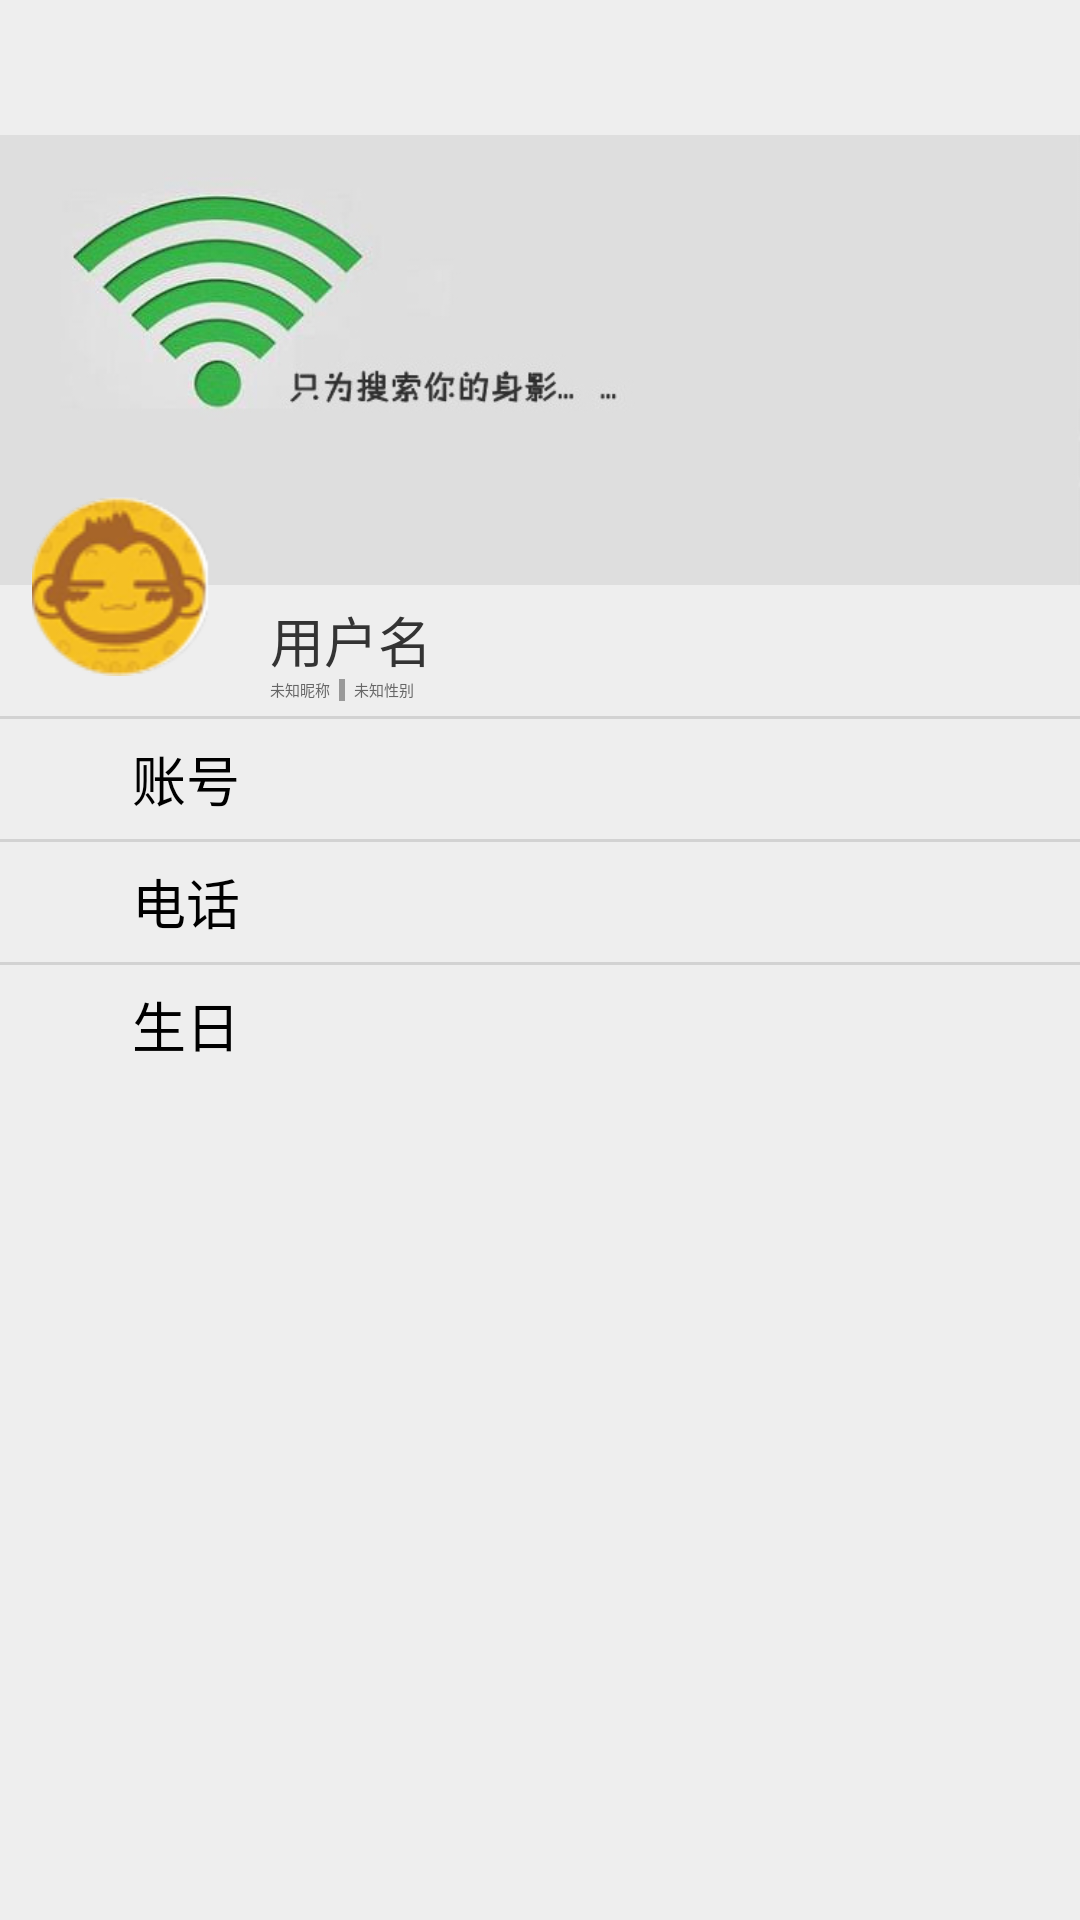

Screen size 1080px×1920px. Icon name, then its center in pixels as [x,y]:
user: [120,587]
